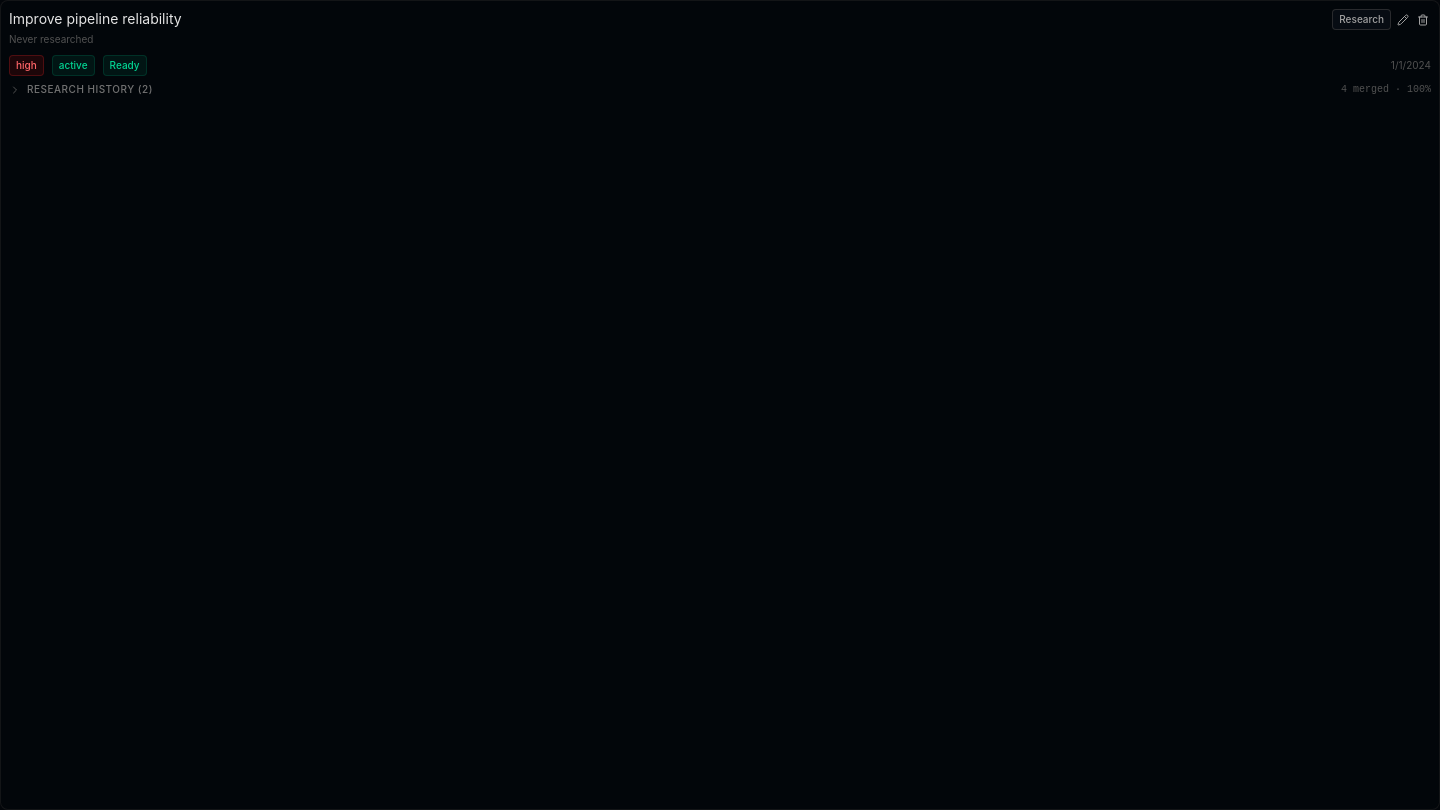
Test: DirectionCard per-cycle delta badge › shows red "-N vs prior" badge when latest cycle regressed
Click the button "Research History (2) 4 merged · 100%" at (85, 89), box [9,82,1431,97]
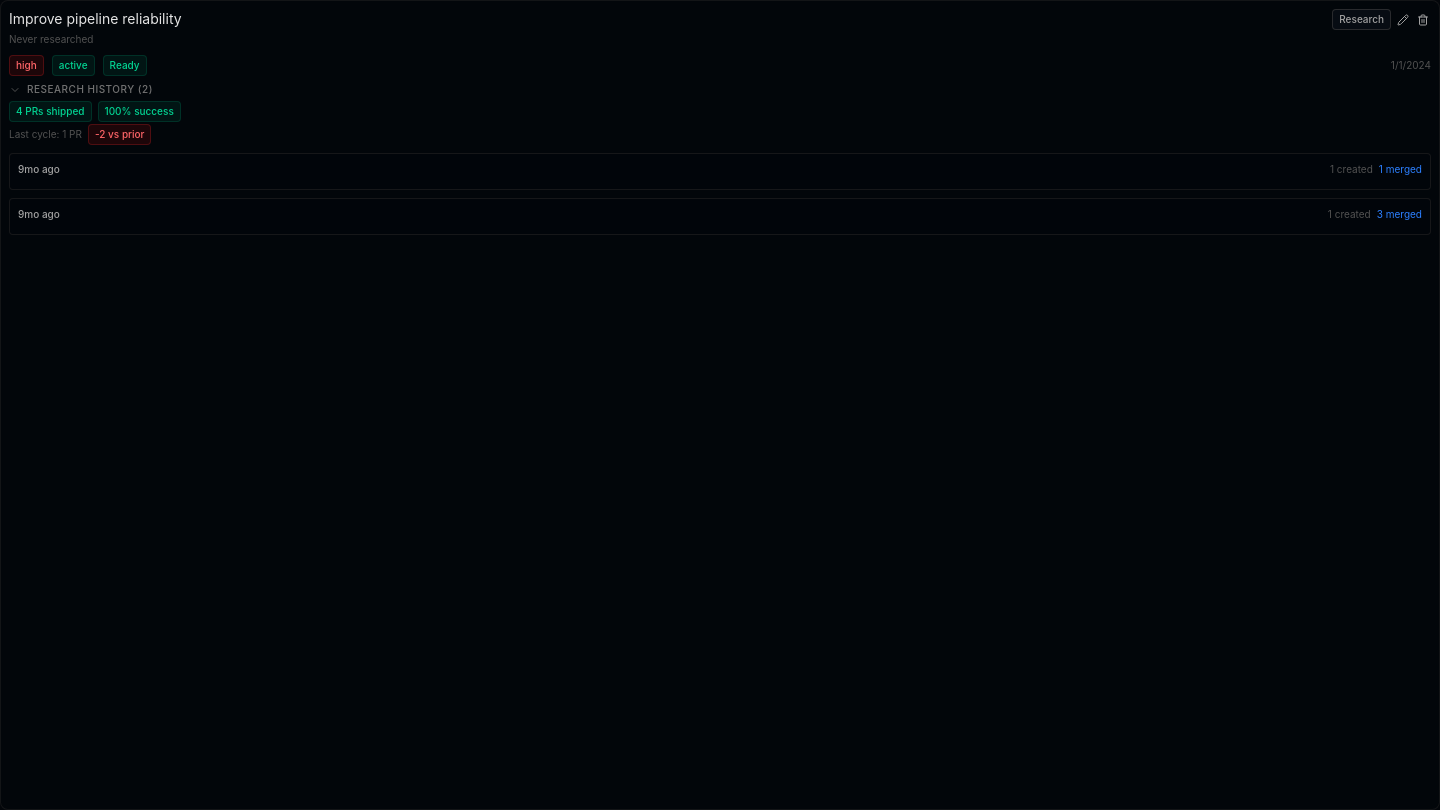
Expected: the text "-2 vs prior" is shown, [88,124,151,145]
